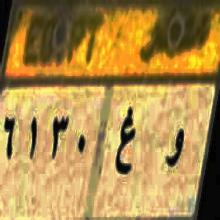0: (74, 124, 86, 162)
1: (27, 112, 40, 162)
3: (51, 109, 68, 165)
6: (0, 109, 17, 172)
ghayn: (114, 100, 135, 182)
waw: (162, 119, 186, 174)
